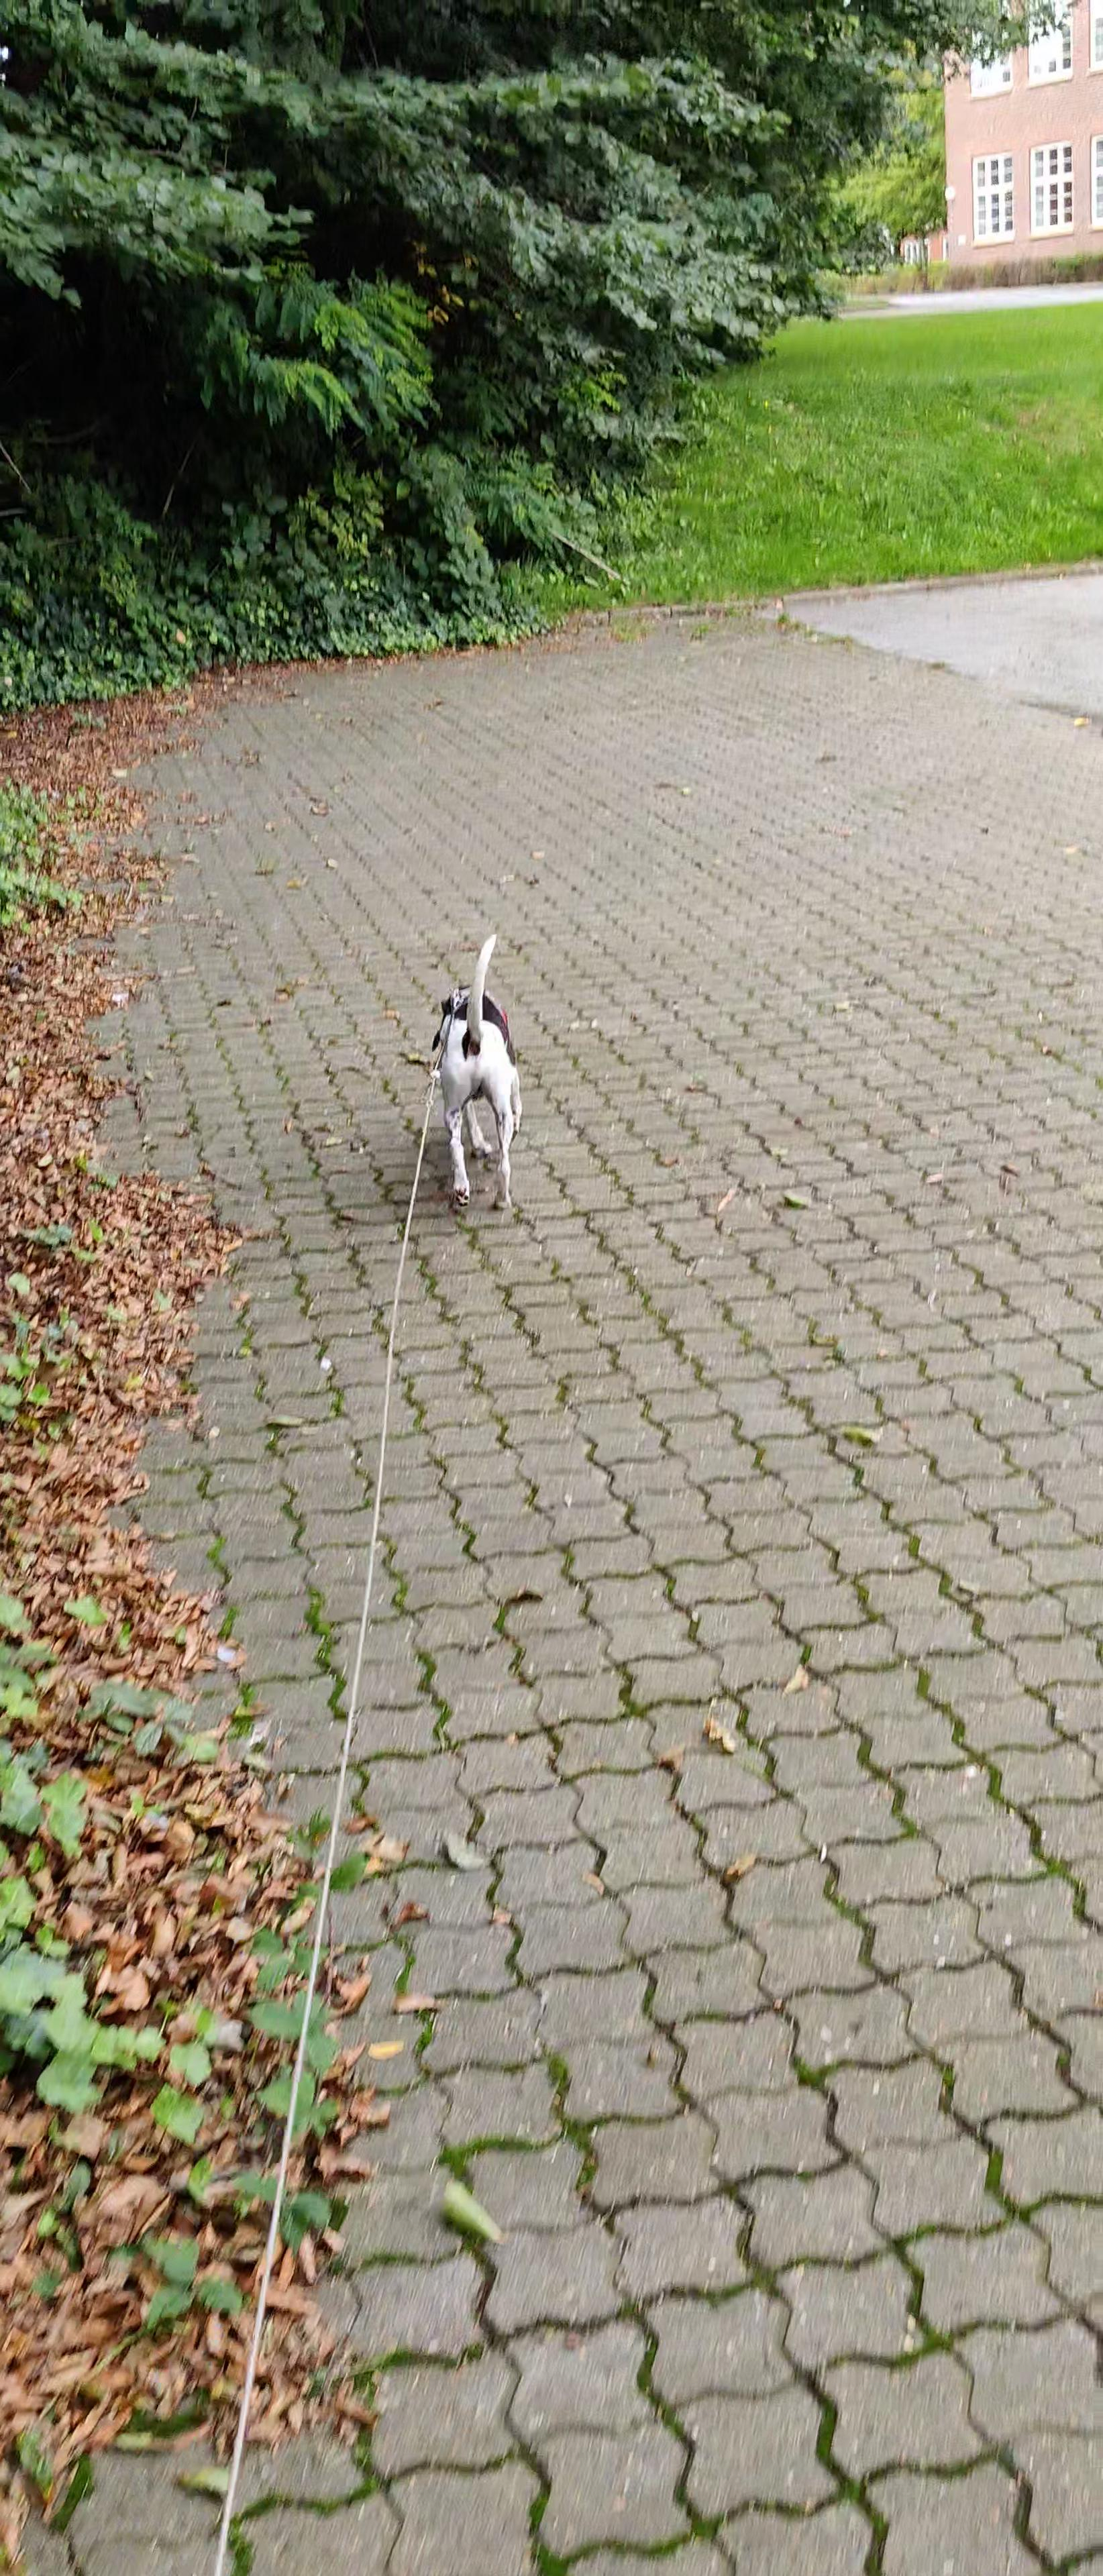Dog: (436, 918, 524, 1214)
